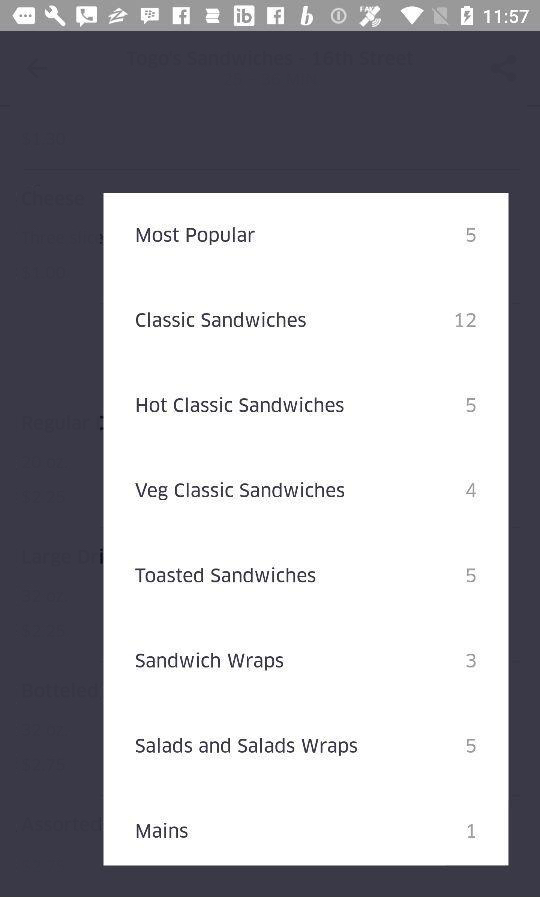Modal: (103, 193, 509, 866)
Text: (135, 737, 359, 757), (135, 481, 346, 502), (137, 396, 345, 414), (135, 567, 317, 584), (136, 311, 307, 329), (135, 652, 285, 672), (136, 227, 256, 247), (136, 822, 189, 839), (455, 313, 477, 328), (465, 482, 477, 499), (466, 228, 477, 244), (466, 567, 477, 583), (466, 738, 477, 754), (466, 397, 476, 414), (466, 653, 477, 668), (467, 823, 476, 839)
UpperTaskBar: (1, 1, 540, 33)
